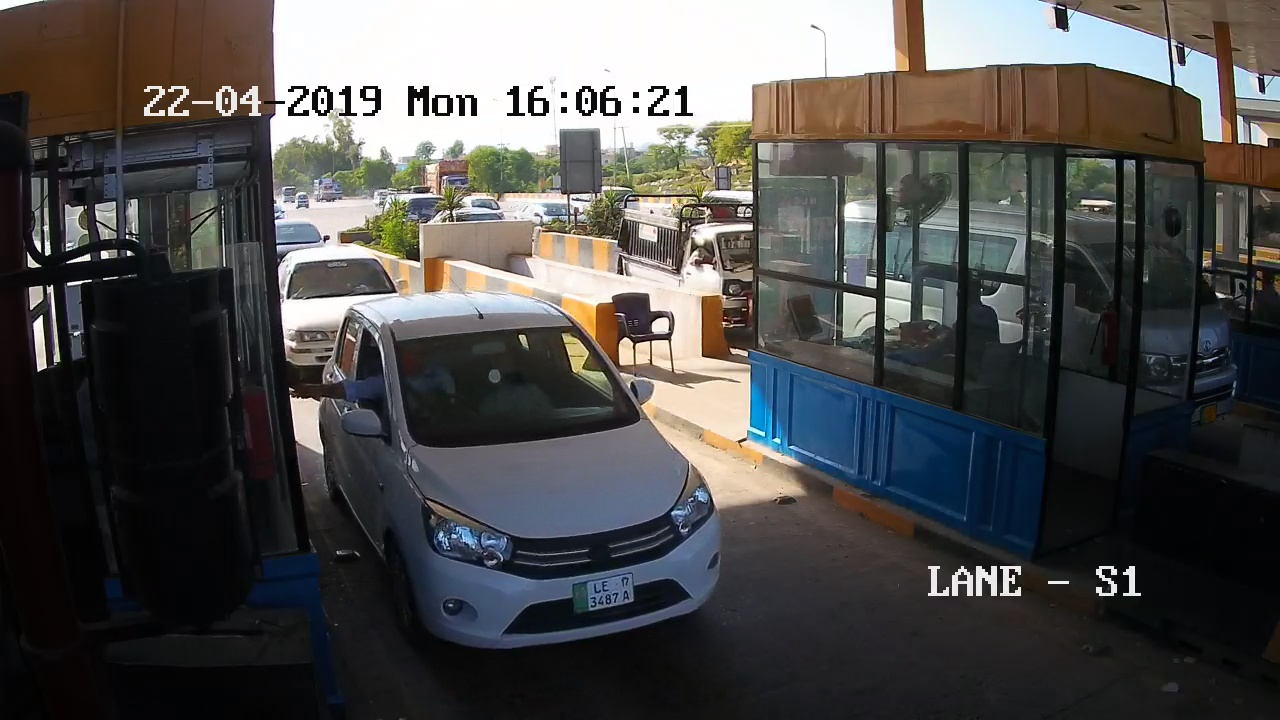Number Plate (Car): (572, 575, 638, 609)
